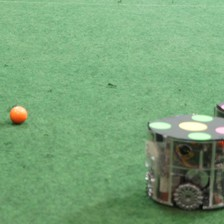ball: (7, 103, 29, 126)
robot: (142, 110, 224, 215)
